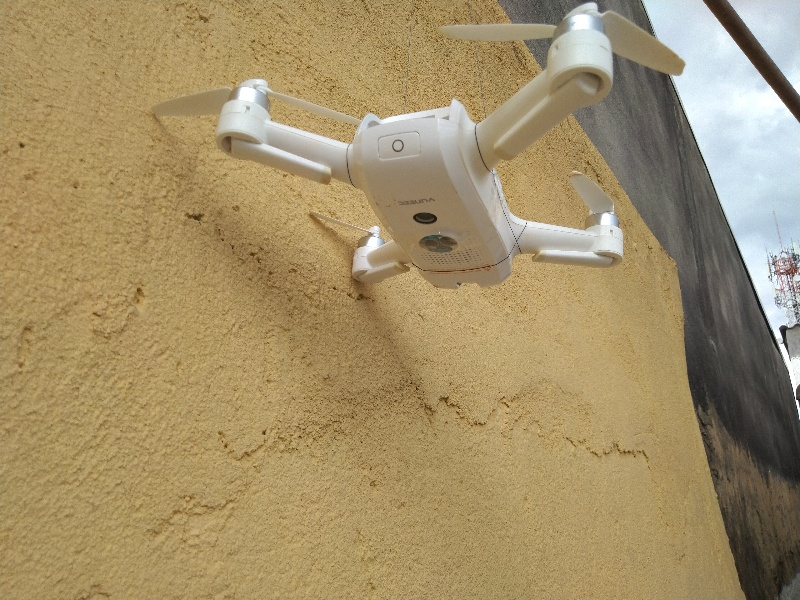drone: (203, 2, 704, 302)
